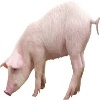heo: (1, 1, 100, 96)
